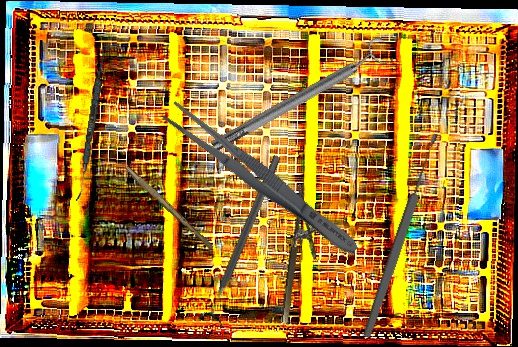Dressing Forceps: (159, 97, 365, 263)
Fixation Ring: (204, 34, 396, 160), (197, 151, 291, 329)
Needle Holder: (279, 183, 326, 327)
Scalpel Handle: (122, 165, 216, 251)
Spatula Surgical: (76, 47, 107, 202)
Surgical Spoon: (360, 131, 443, 340)
